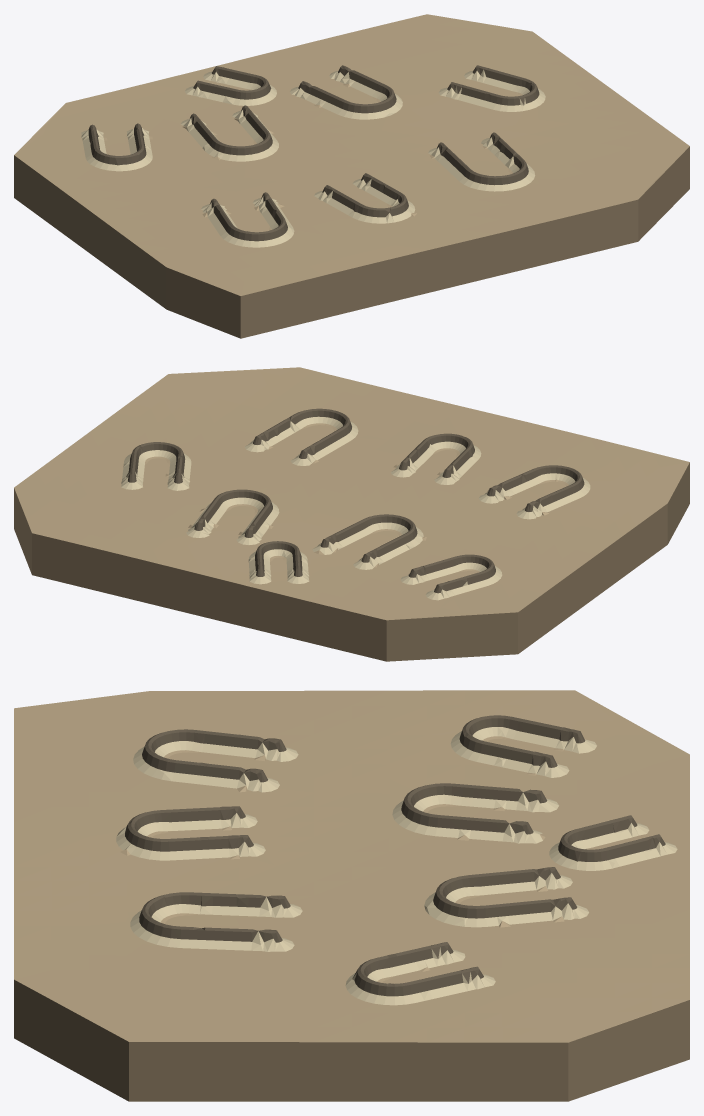
3 renders of one model, top to bottom at view 1: azimuth 30°, elevation 25°; view 2: azimuth 150°, elevation 25°; view 3: azimuth 270°, elevation 25°, orthographic. The views are drawn at different scales.
Visible parts, largest first — view 1: phycosiphon-looping-trace_continuous_sediment_and_trace_reli; view 2: phycosiphon-looping-trace_continuous_sediment_and_trace_reli; view 3: phycosiphon-looping-trace_continuous_sediment_and_trace_reli.
Boxes of the visible parts, x1,y1,x2,y2 form: phycosiphon-looping-trace_continuous_sediment_and_trace_reli: (14,14,689,338); phycosiphon-looping-trace_continuous_sediment_and_trace_reli: (14,367,689,661); phycosiphon-looping-trace_continuous_sediment_and_trace_reli: (14,690,689,1101).
Bounding box in the file's own units: 0.08 × 0.00801 × 0.065.
